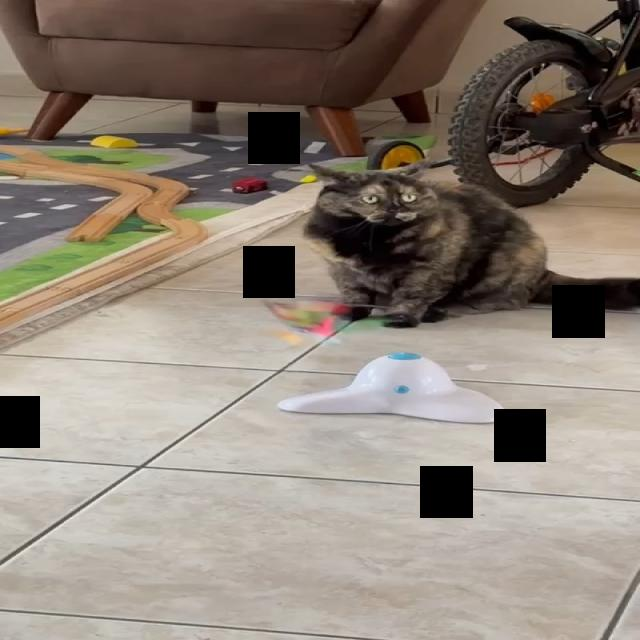authorized: (301, 161, 639, 328)
